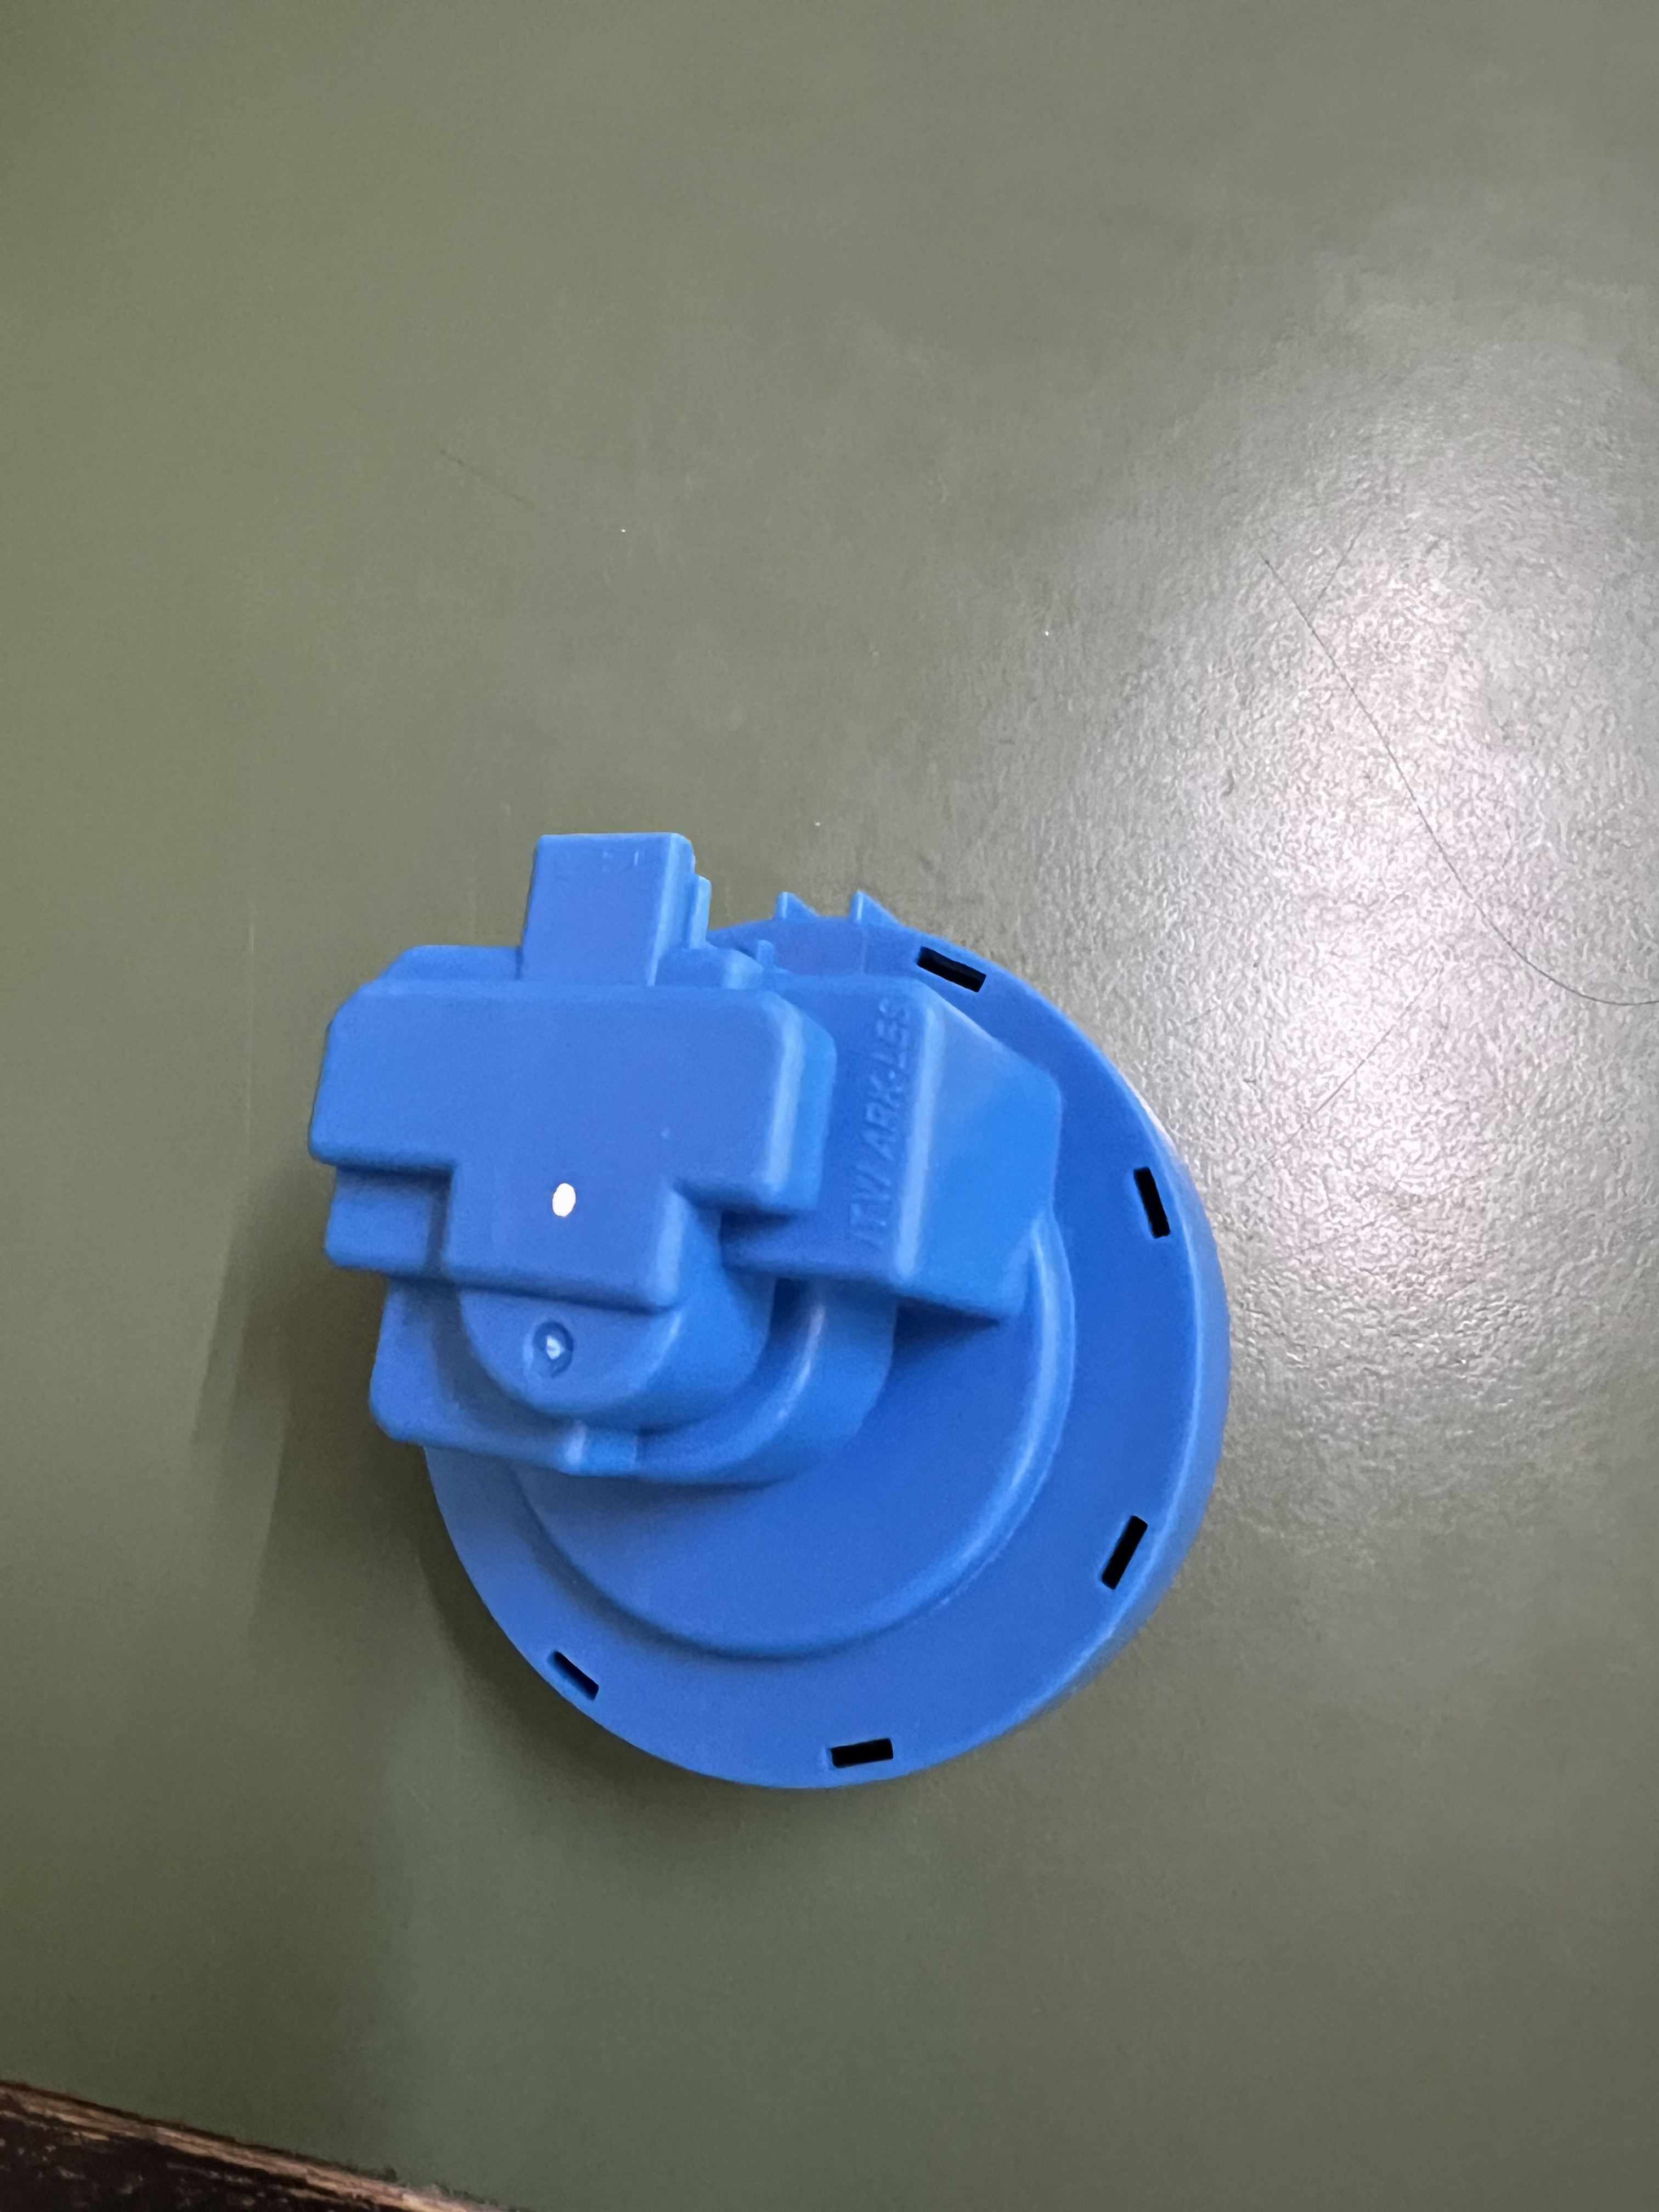voltas_beko_pressure_switch: (298, 813, 1269, 1797)
